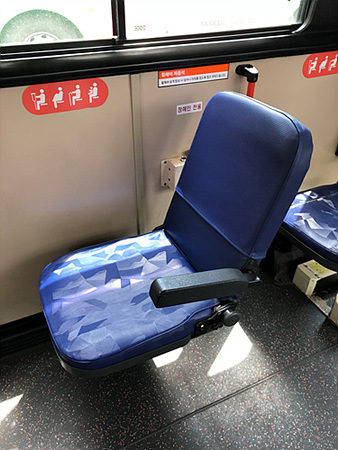seat: (40, 91, 314, 375)
